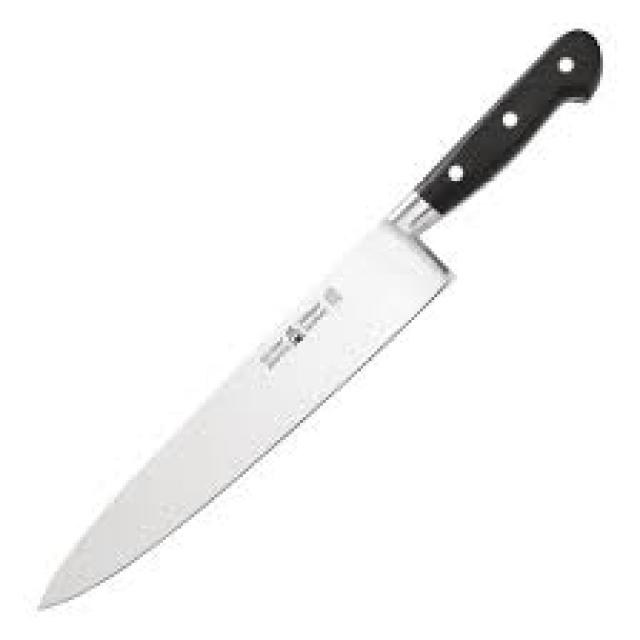knife: (30, 19, 620, 628)
